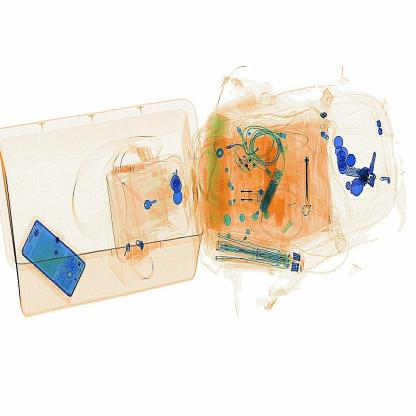wrench: (296, 136, 320, 223)
